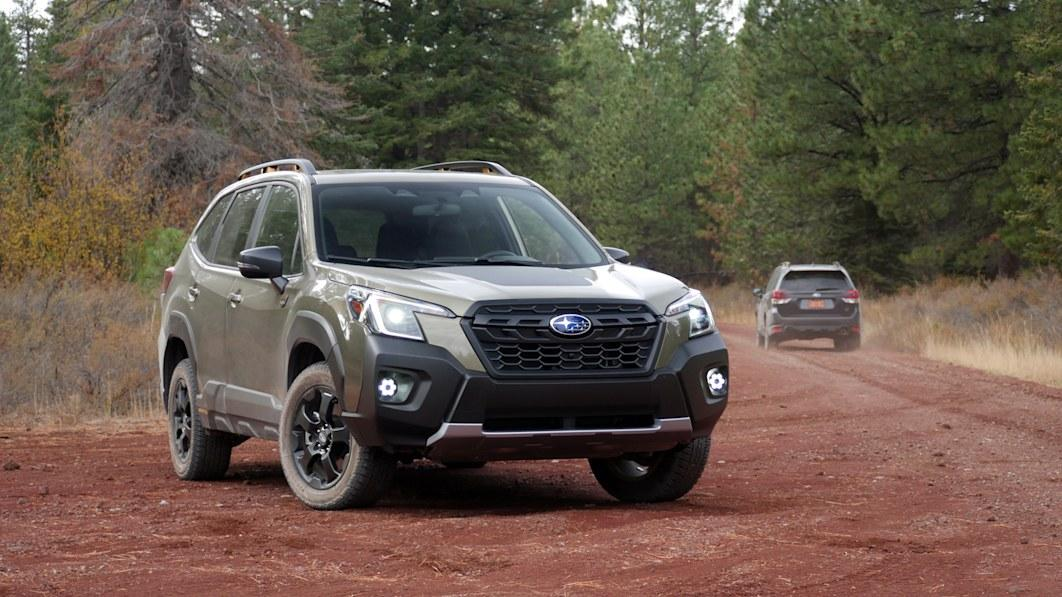subaru: (546, 306, 599, 341)
